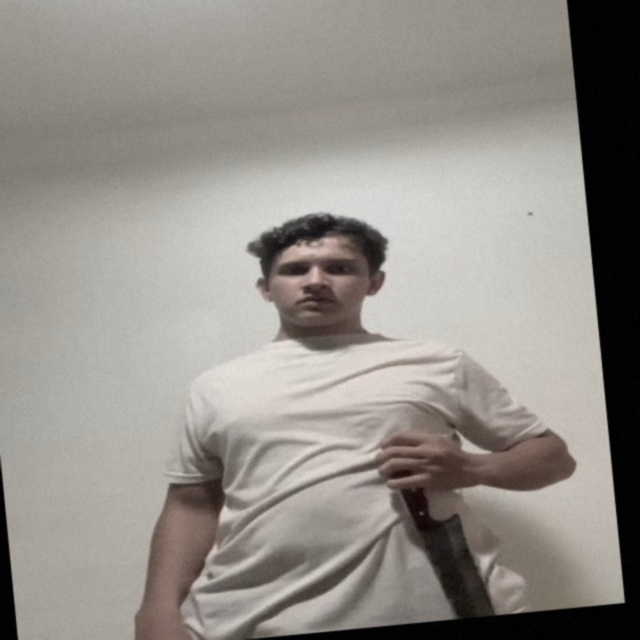Sharp-Object: (425, 511, 490, 621)
